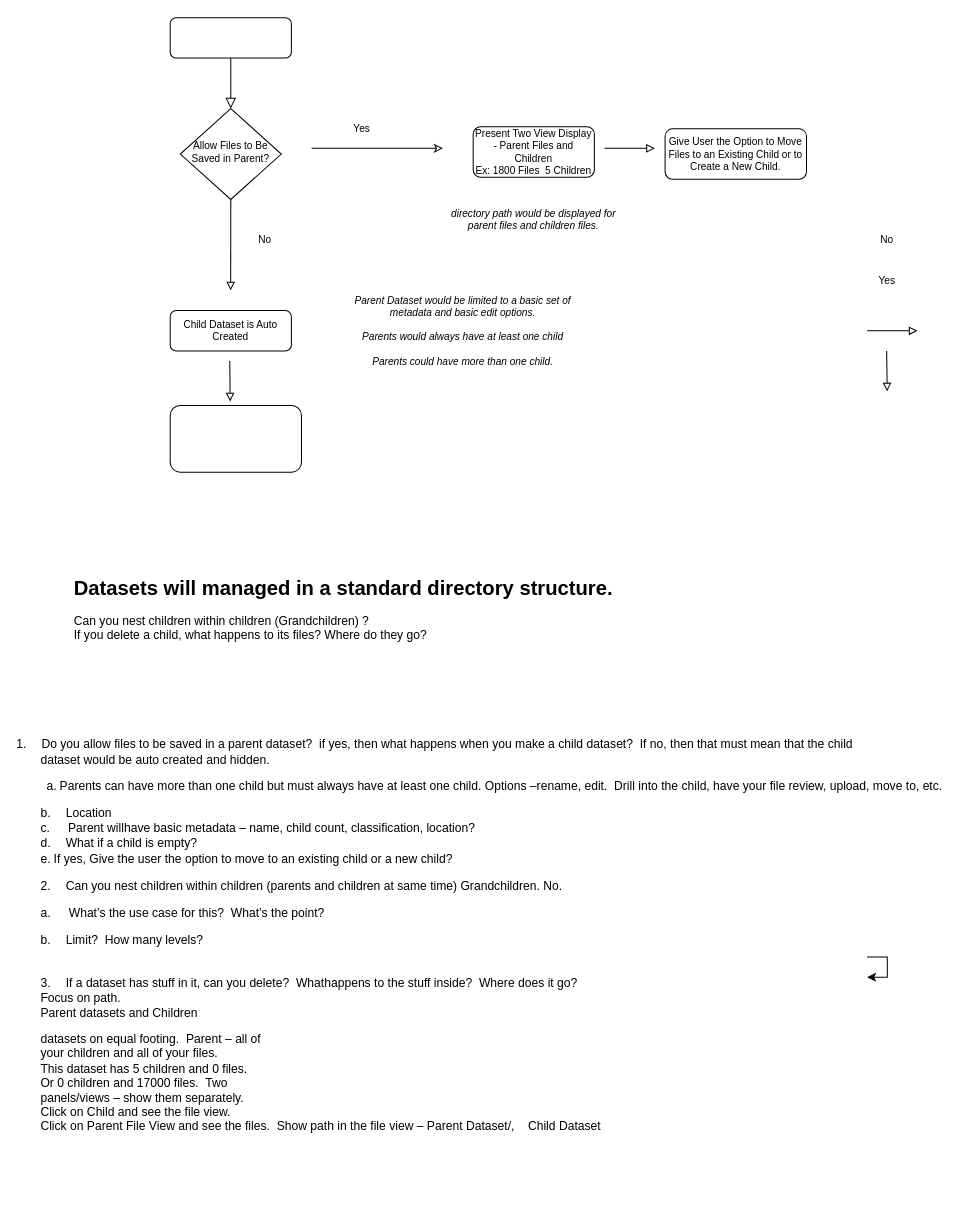
Image size: 960x1226. Some labels were removed from this diagram. The shapes that lost their labels are listed below. From the top down, each one's box as (x1, y1, x2, y2) in pixels, then its label:
(169, 17, 291, 58): Parent Dataset is Created
(169, 405, 301, 472): Give User the Option to Add Files to Existing Child or Create a New Child(ren)
